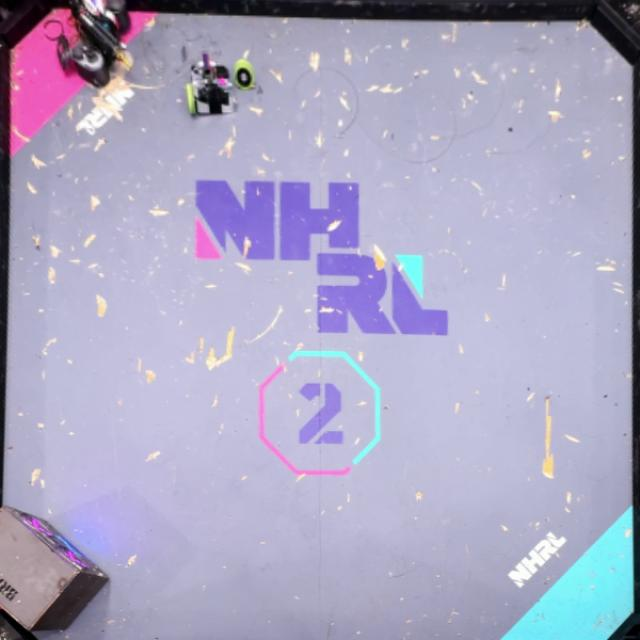housebot: (0, 504, 110, 632)
robot: (54, 0, 132, 89), (183, 50, 236, 116)
